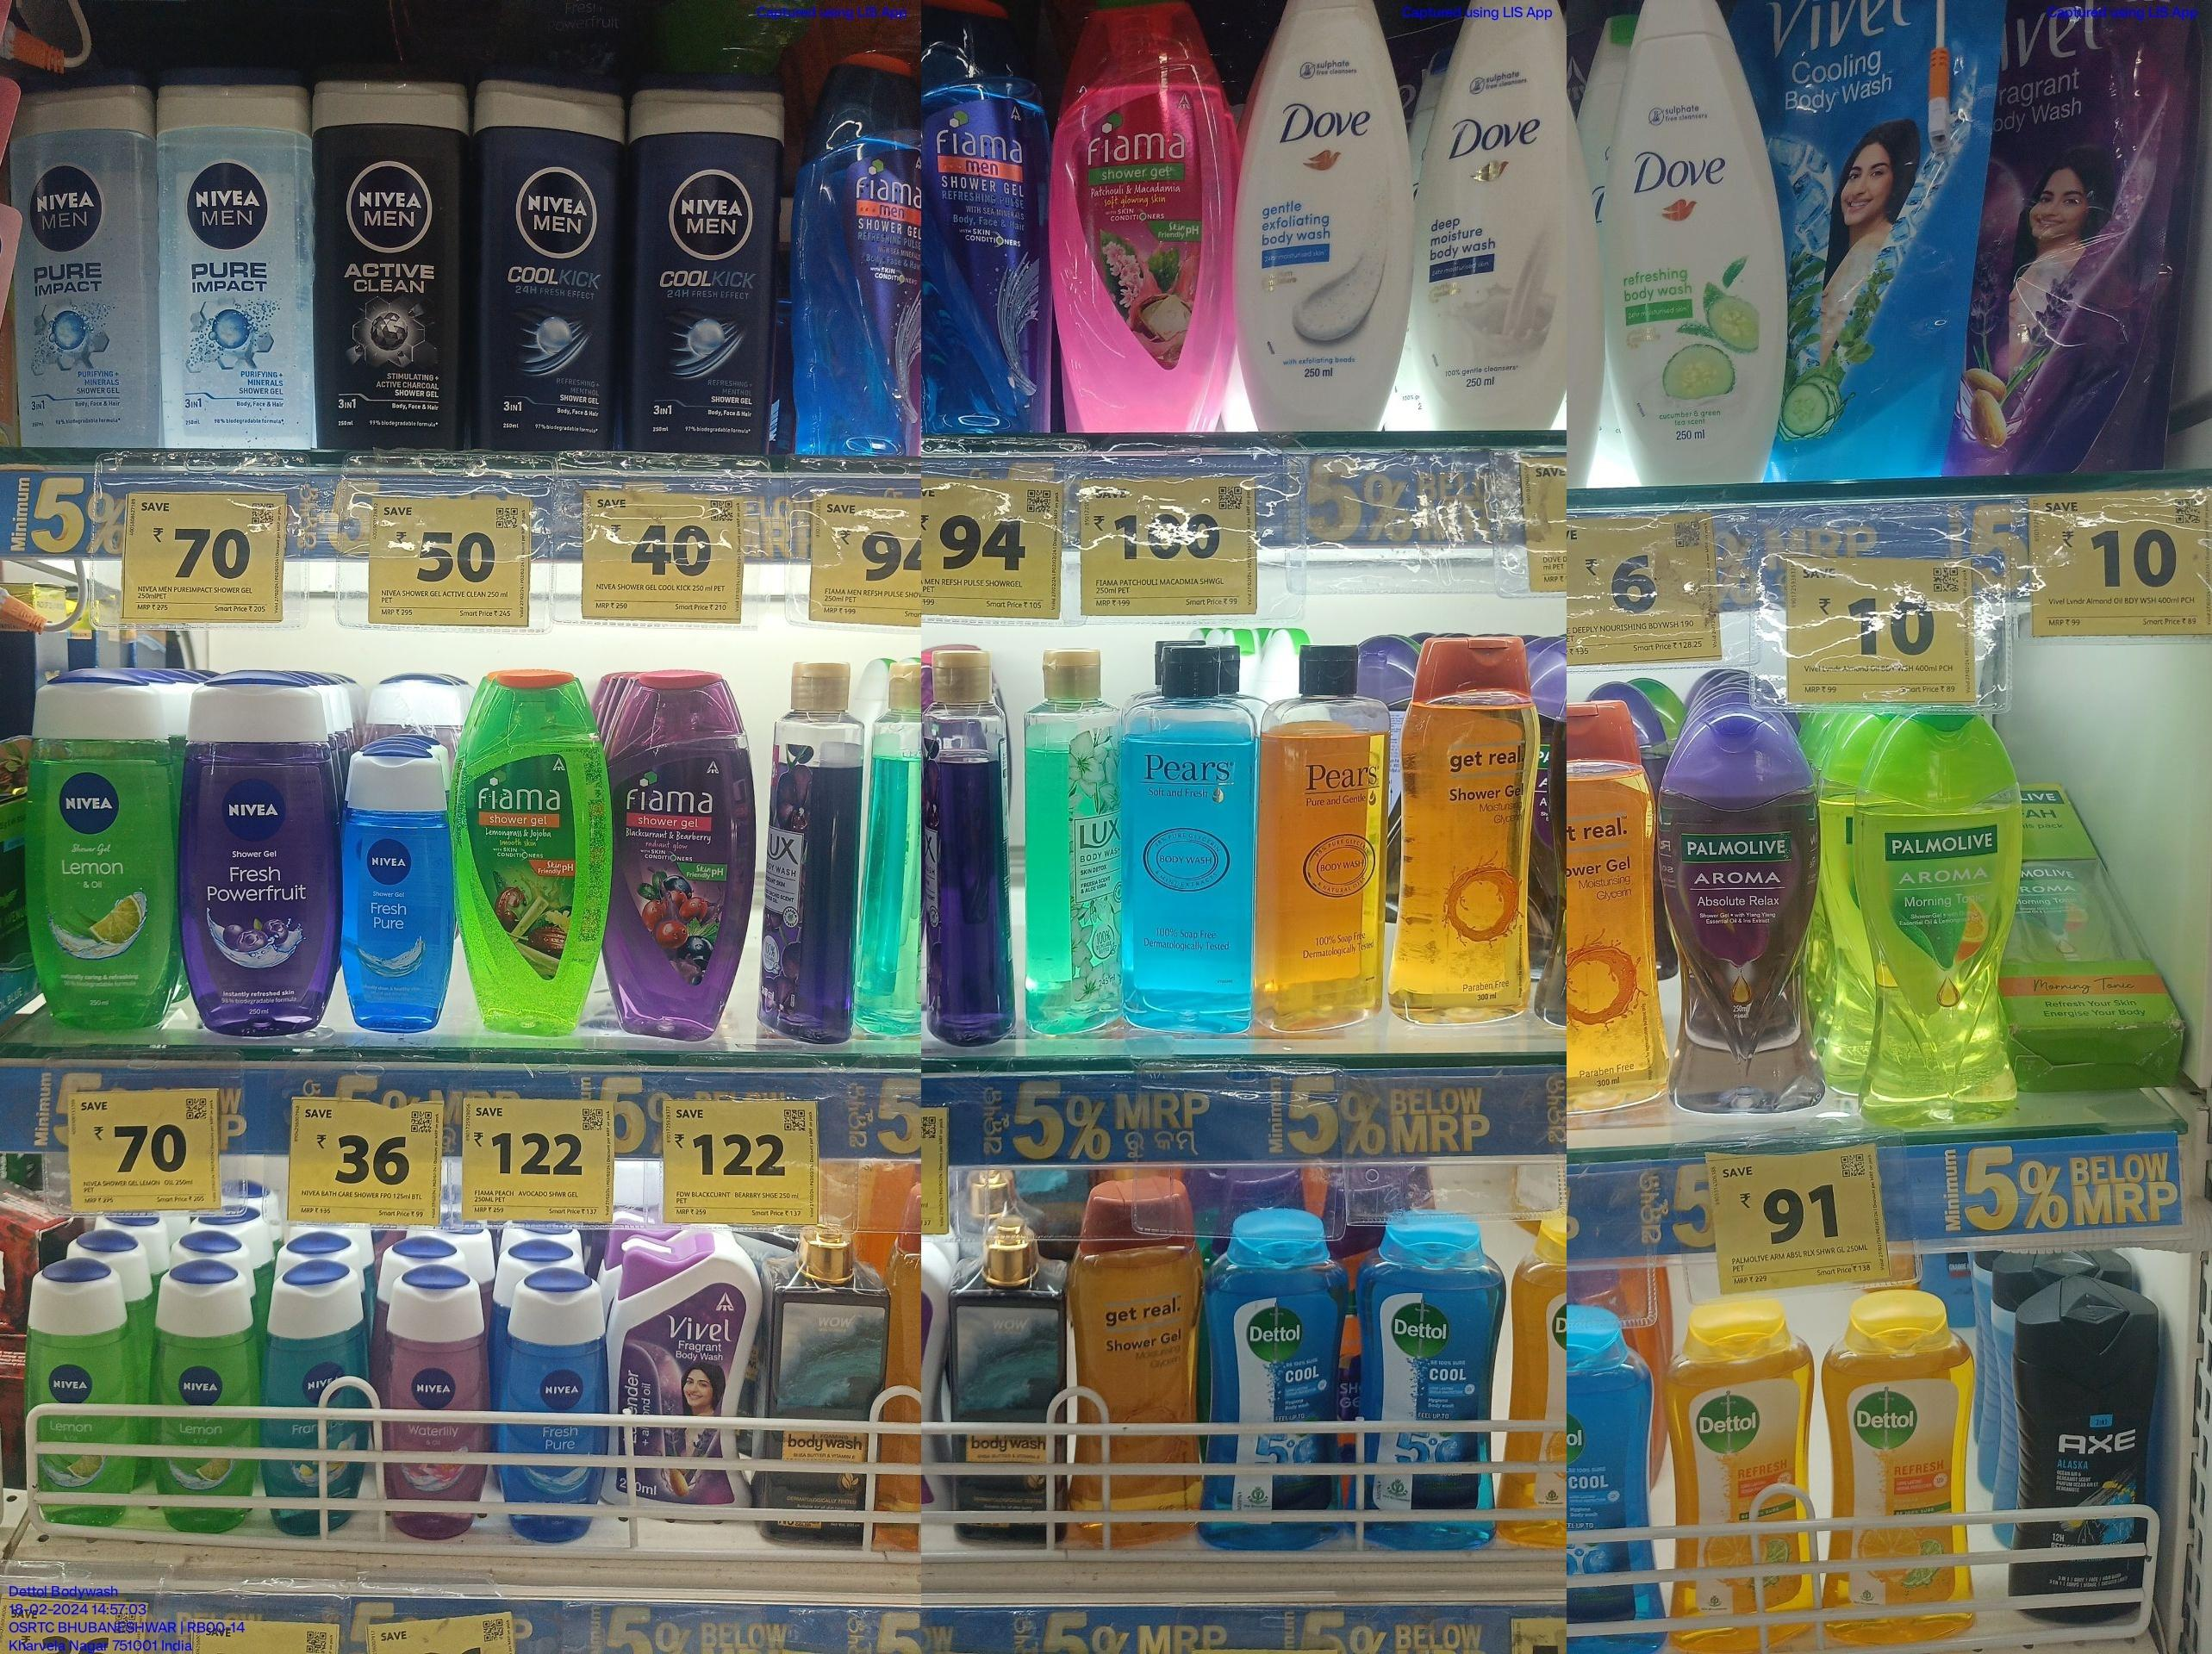Dettol_Bodywash_Cool: (1355, 1206, 1493, 1555), (1206, 1211, 1338, 1551)
Dettol_Bodywash_Refresh: (1668, 1293, 1826, 1652), (1833, 1293, 1977, 1638)
Dove_Deep_Moisture_Body_Wash_250ML: (1418, 0, 1566, 434)
Dove_Gentle_Exfoliating_Body_Wash_250ML: (1234, 0, 1413, 434)
Dove_Refreshing_Body_Wash_250ML: (1613, 0, 1785, 500)
Fiama_Shower_Gel_Lemongrass_and_Jojoba_250ML: (455, 667, 603, 1037)
Fiama_Shower_Gel_Patchouli_and_Macadamia_250ML: (1050, 7, 1222, 429)
Get_Real_Shower_Gel_Moisturising_Glycerin_300ML: (1395, 631, 1534, 1030), (1065, 1176, 1197, 1548)
Lux_Body_Wash_Skin_Detox_Freesia_Scent_and_Alove_Vera_245ML: (1022, 652, 1121, 1035)
Nivea_Shower_Gel_Fresh_Powerfruit_250ML: (184, 676, 334, 1037)
Nivea_Shower_Gel_Lemon_and_Oil_250ML: (24, 672, 182, 1035)
Palmolive_Aroma_Morning_Tonic_Shower_Gel_250ML: (1859, 704, 2019, 1124)
Palmolive_Aroma_Relax_250ML: (1652, 709, 1819, 1119)
Pears_Pure_Glycerin_and_Mint_Extracts_Body_Wash_250ML: (1126, 632, 1258, 1051)
